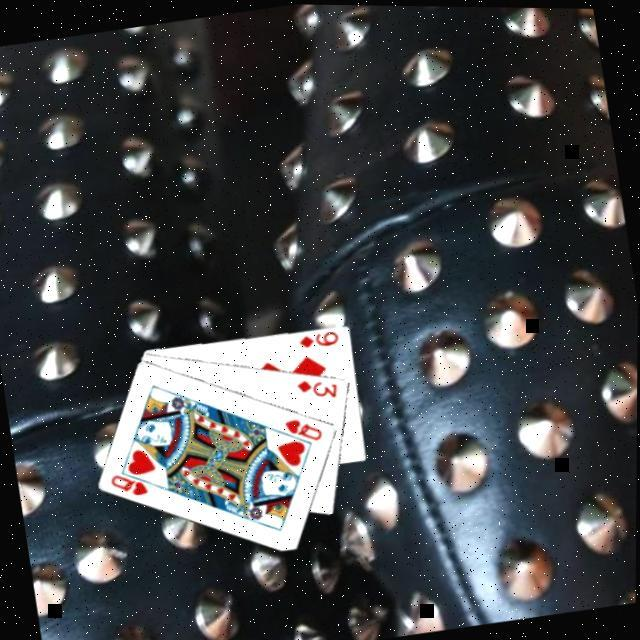3D: (296, 372, 345, 408)
9D: (298, 327, 344, 353)
QH: (109, 464, 163, 504), (284, 412, 330, 449)
